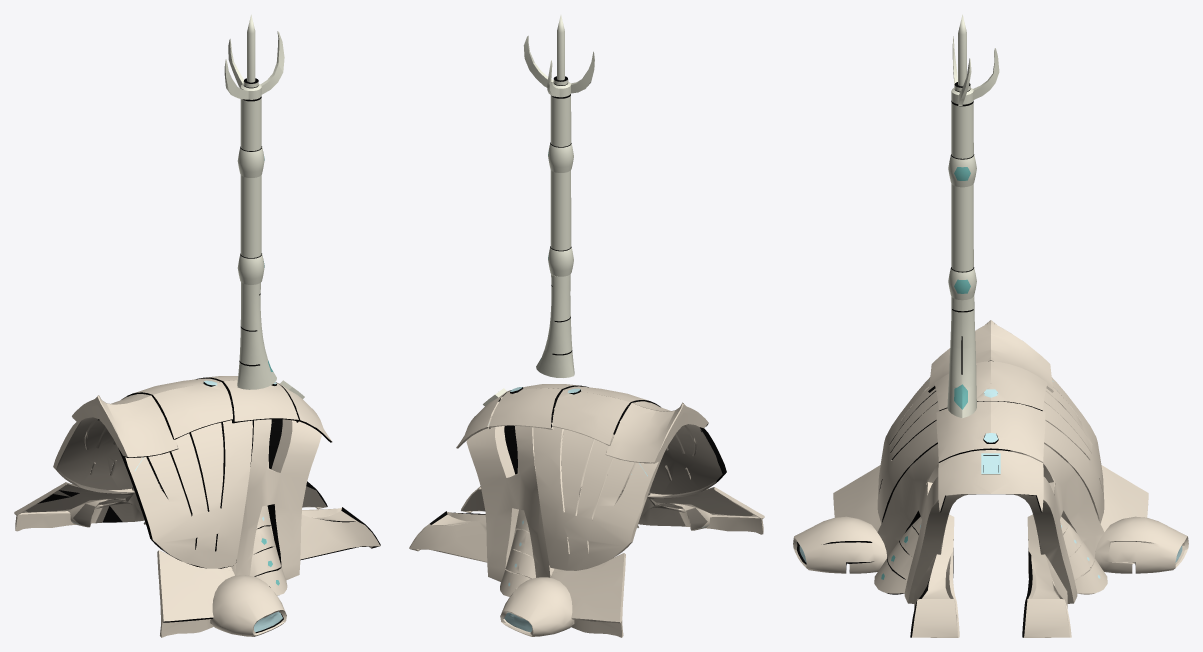
3 renders of one model, left to right at view 1: azimuth 30°, elevation 25°; view 2: azimuth 150°, elevation 25°; view 3: azimuth 270°, elevation 25°, orthographic. The views are drawn at different scales.
Parts seen in each view (by area): view 1: Base, Expansion3, Expansion1, Expansion2; view 2: Base, Expansion3, Expansion1, Expansion2; view 3: Base, Expansion3, Expansion1, Expansion2.
Boxes of the visible parts, left/top/right/bottom form: Base: left=14, top=376, right=380, bottom=637; Expansion3: left=224, top=14, right=284, bottom=177; Expansion1: left=237, top=282, right=276, bottom=389; Expansion2: left=237, top=175, right=264, bottom=284; Base: left=409, top=384, right=764, bottom=637; Expansion3: left=523, top=15, right=594, bottom=172; Expansion1: left=536, top=274, right=574, bottom=377; Expansion2: left=548, top=170, right=573, bottom=276; Base: left=793, top=320, right=1188, bottom=637; Expansion3: left=948, top=14, right=999, bottom=187; Expansion1: left=947, top=296, right=976, bottom=418; Expansion2: left=948, top=184, right=976, bottom=300.
Size of the model in its own units: 1.92 by 3.95 by 2.44.
4 materials, 1 textured.
